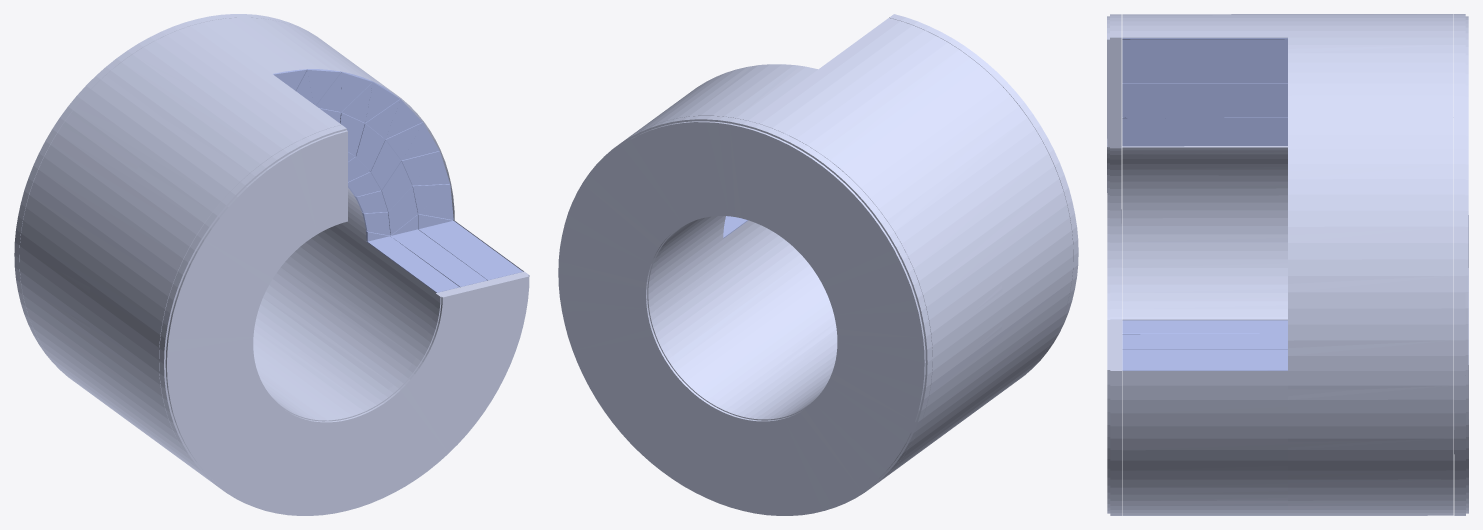
Rendered from TRT-BAR-cut4.glb.
The picture shows the model from 3 angles, left to right: view 1: azimuth 30°, elevation 25°; view 2: azimuth 150°, elevation 25°; view 3: azimuth 270°, elevation 25°; orthographic projection. The views are drawn at different scales.
Visible parts, largest first — view 1: S_Mesh_1-110, S_Mesh_1-106; view 2: S_Mesh_1-110; view 3: S_Mesh_1-110, S_Mesh_1-106.
Part boxes in pixels (x1,y1,x2,y2): S_Mesh_1-110: [14, 14, 529, 515]; S_Mesh_1-106: [273, 69, 522, 292]; S_Mesh_1-110: [558, 14, 1078, 515]; S_Mesh_1-110: [1107, 14, 1468, 515]; S_Mesh_1-106: [1122, 38, 1287, 370].
Bounding box in the file's own units: 2.16 × 2.16 × 1.56.
